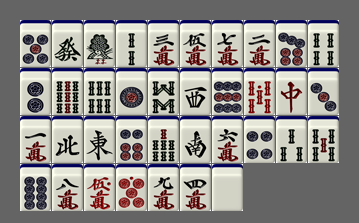0m: (84, 164, 115, 211)
0p: (116, 164, 147, 211)
0s: (244, 68, 275, 115)
1m: (20, 116, 51, 163)
1p: (116, 68, 147, 115)
1s: (84, 20, 115, 67)
1z: (84, 116, 115, 163)
2m: (244, 20, 275, 67)
2p: (20, 68, 51, 115)
2s: (116, 20, 147, 67)
2z: (180, 116, 211, 163)
3m: (148, 20, 179, 67)
3p: (308, 68, 339, 115)
3s: (276, 116, 307, 163)
3z: (180, 68, 211, 115)
4m: (180, 164, 211, 211)
4p: (244, 116, 275, 163)
4s: (308, 20, 339, 67)
4z: (52, 116, 83, 163)
5m: (180, 20, 211, 67)
5p: (20, 20, 51, 67)
5s: (308, 116, 339, 163)
5z: (212, 164, 243, 211)
6m: (212, 116, 243, 163)
6p: (116, 116, 147, 163)
6s: (84, 68, 115, 115)
6z: (52, 20, 83, 67)
7m: (212, 20, 243, 67)
7p: (276, 20, 307, 67)
7s: (148, 116, 179, 163)
7z: (276, 68, 307, 115)
8m: (52, 164, 83, 211)
8p: (20, 164, 51, 211)
8s: (148, 68, 179, 115)
9m: (148, 164, 179, 211)
9p: (212, 68, 243, 115)
9s: (52, 68, 83, 115)
